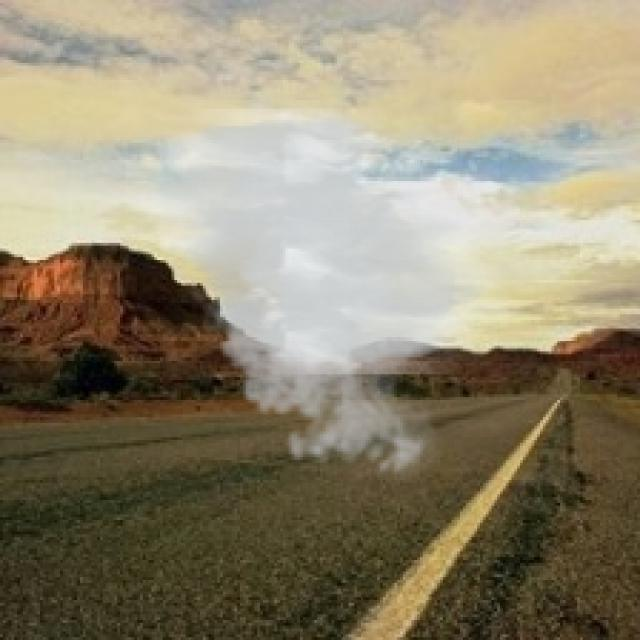smoke: (126, 108, 508, 486)
